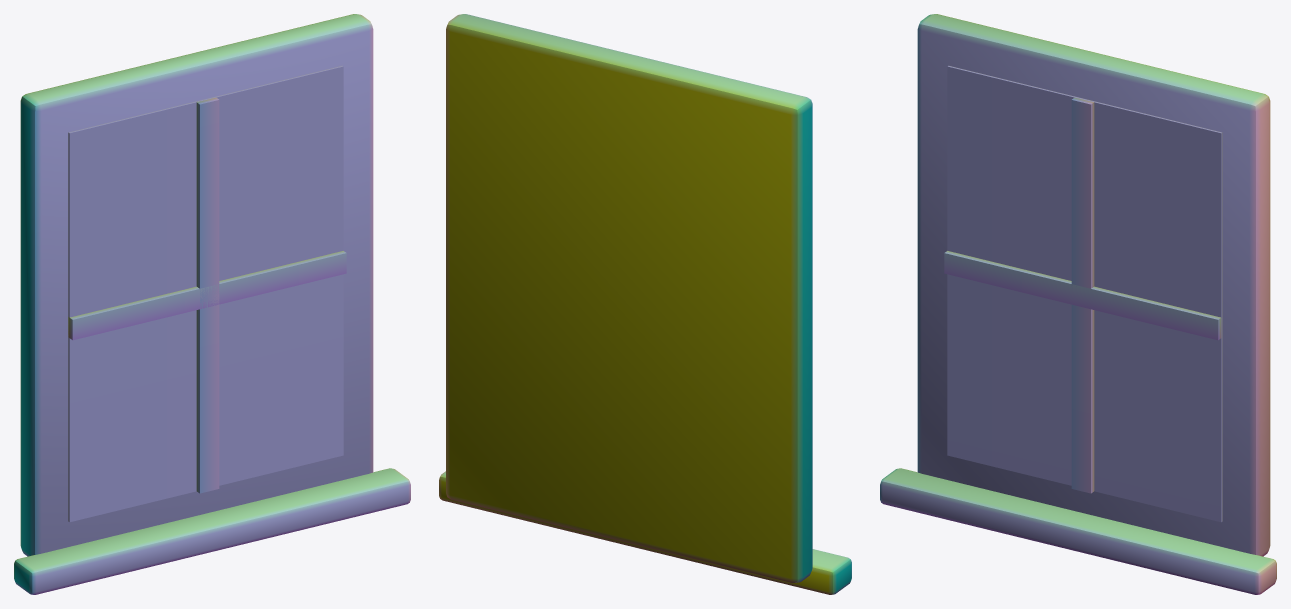
File: kitchen_window.glb
3 views of the same model, side by side, from view 1: azimuth 30°, elevation 25°; view 2: azimuth 150°, elevation 25°; view 3: azimuth 330°, elevation 25° (orthographic). The views are drawn at different scales.
Visible parts, largest first — view 1: kitchen_window; view 2: kitchen_window; view 3: kitchen_window.
Boxes of the visible parts, x1,y1,x2,y2 form: kitchen_window: (14,14,410,594); kitchen_window: (439,14,851,594); kitchen_window: (880,14,1276,594).
Size of the model in its own units: 0.78 by 0.93 by 0.12.
